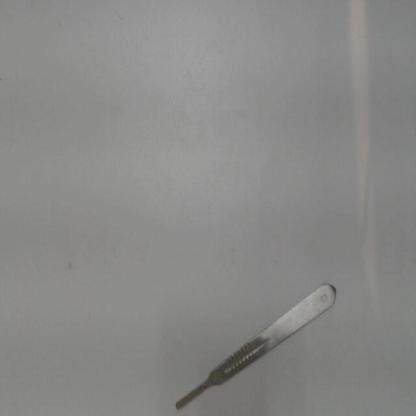No.4 BP Handle: (171, 275, 343, 414)
